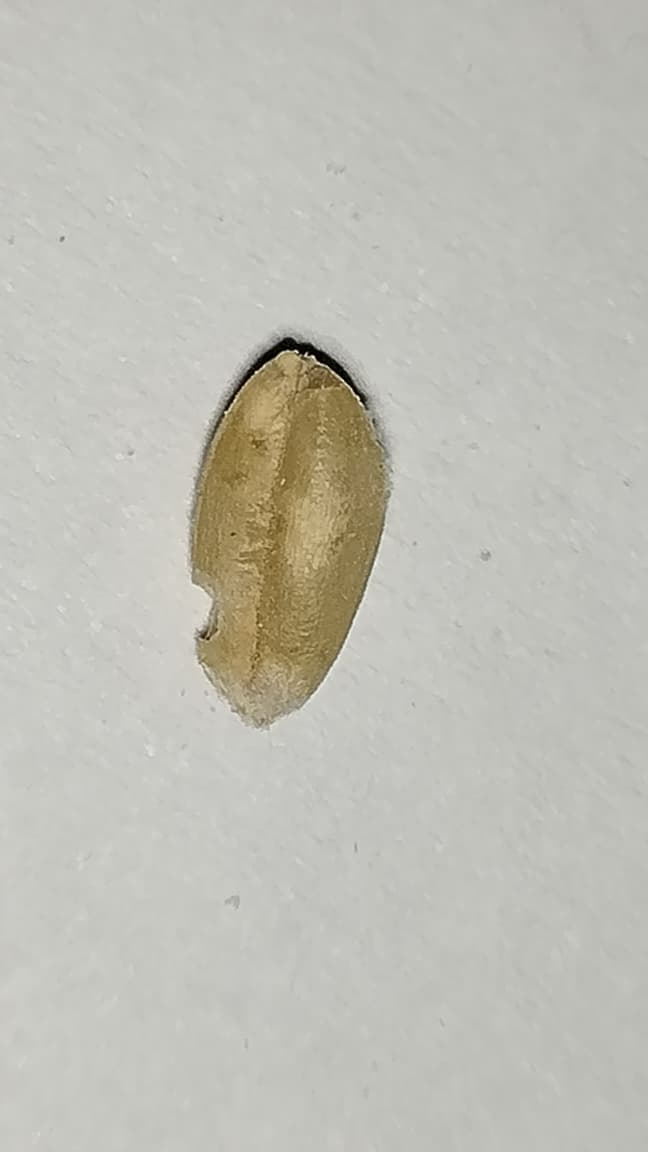damage: (190, 341, 385, 724)
insectdamage: (183, 567, 257, 675)
